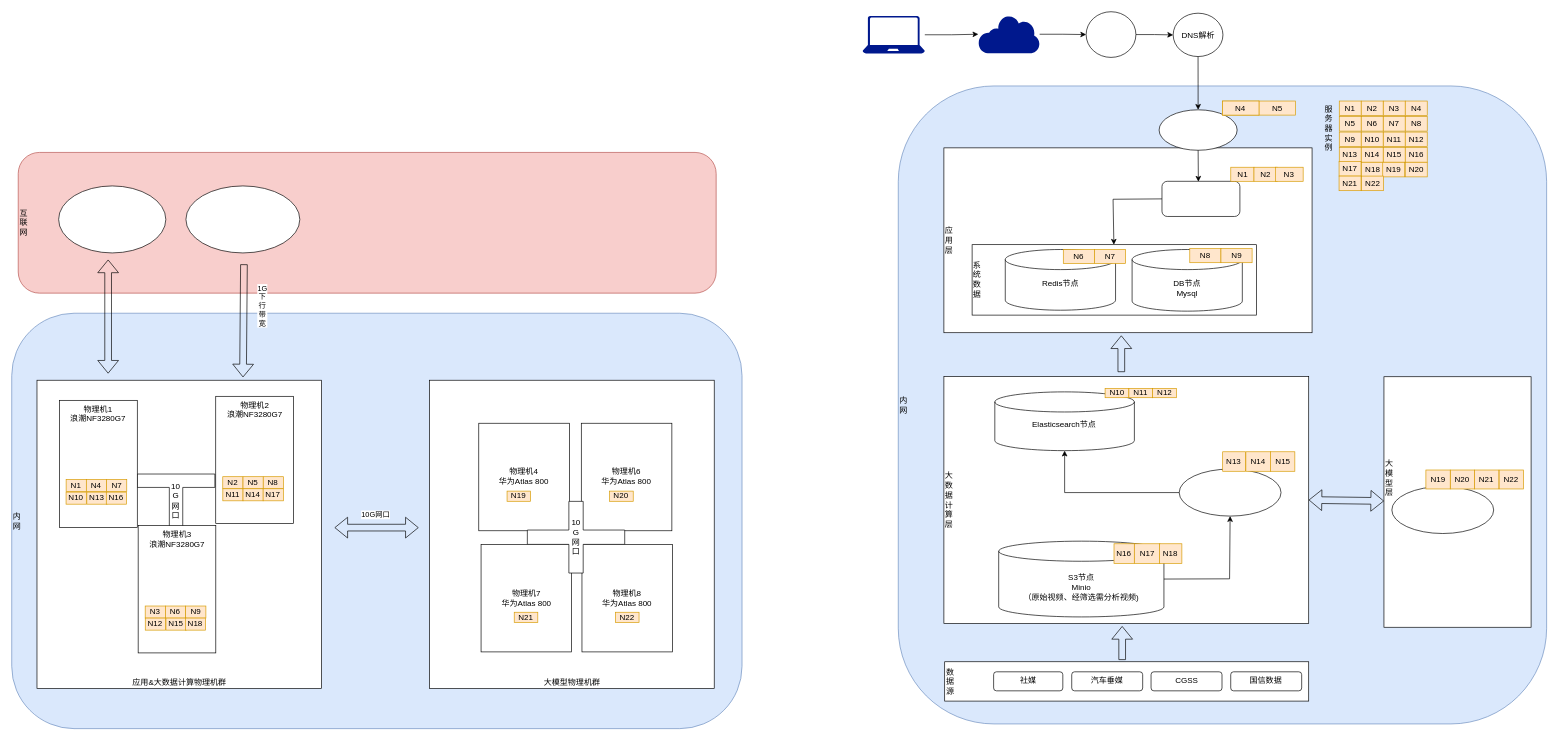
This 1558x740 diagram has some shape labels left out. Here are the shapes that lost their labels. From the top down, the centre of each, then its label:
At (1110,34): "域名解析".
At (1197,129): "负载均衡 Nginx".
At (1200,198): "WEB节点".
At (112,219): "WEB浏览器".
At (242,219): "数说视频数据".
At (1230,492): "大数据计算节点 ETL计算服务".
At (1442,510): "GPU算法节点 S-GPT".
